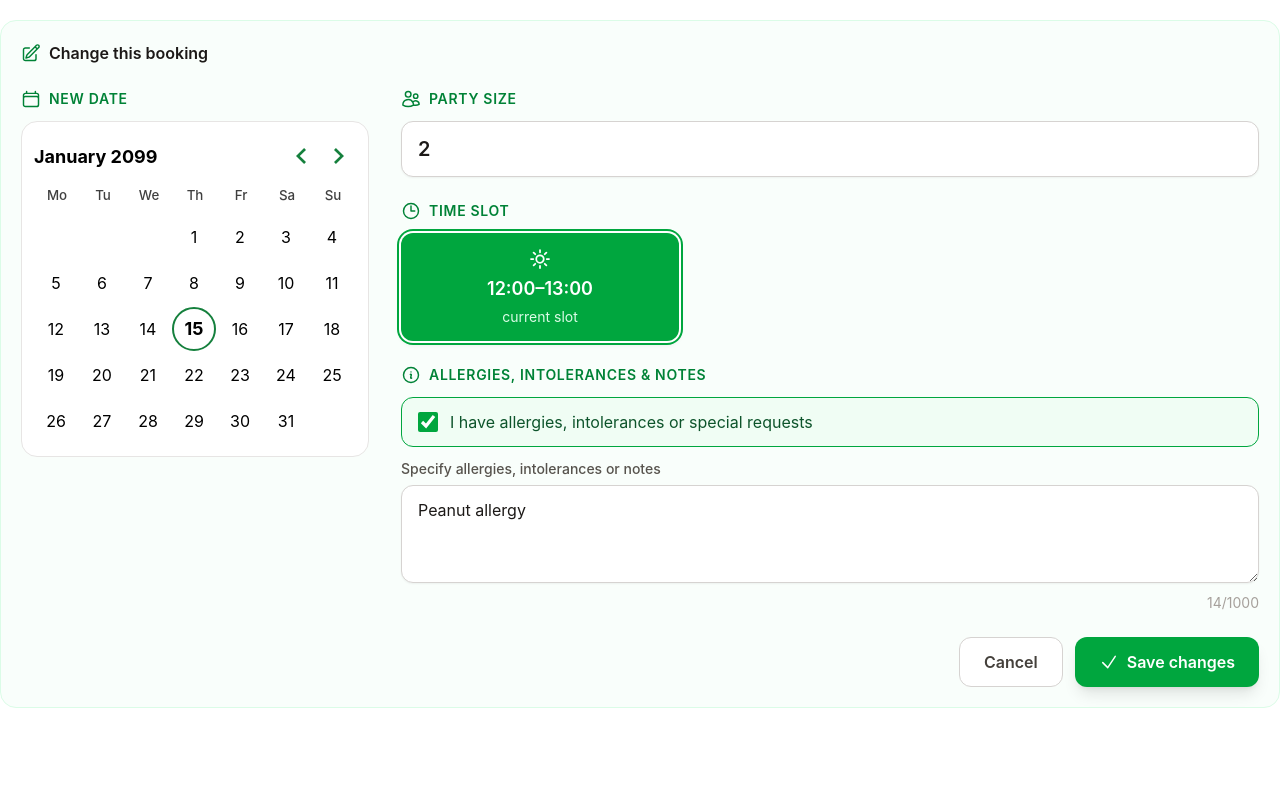
Test: ChangeBookingPanel requirements editing › shows a validation message if nothing changed
The width and height of the screenshot is (1280, 800).
Check: the button "12:00–13:00 current slot" is shown, box [401,233,679,341]
Click the button "Save changes": (1167, 662) [1075,637,1259,687]
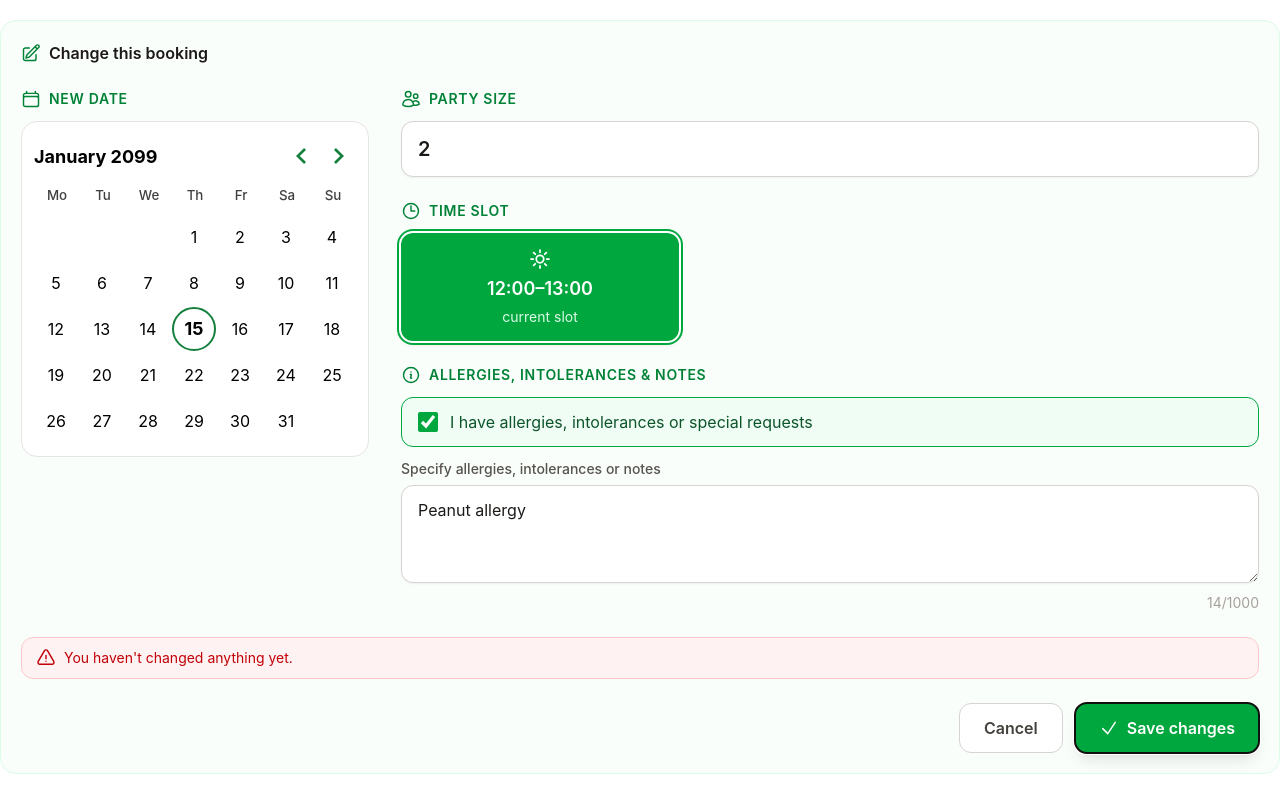
Check: the message "You haven't changed anything yet." is shown, box [21,637,1259,679]
